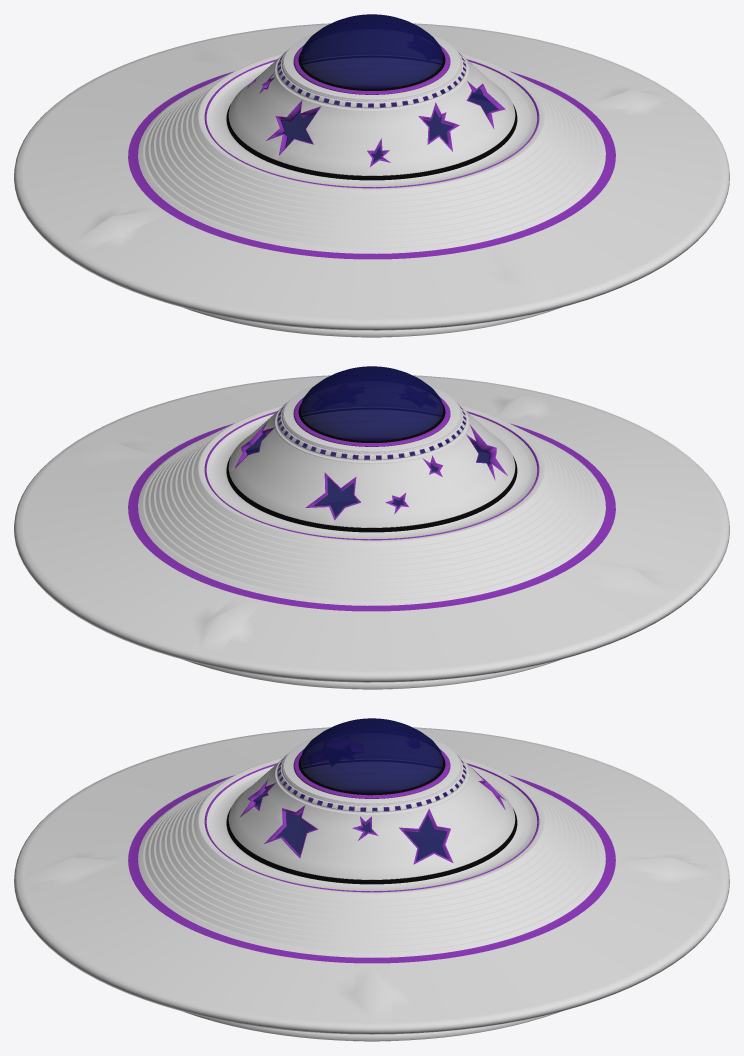
Rendered from spaceship_inside_sample_1.fbx.
3 views of the same model, one above another, from view 1: azimuth 30°, elevation 25°; view 2: azimuth 150°, elevation 25°; view 3: azimuth 270°, elevation 25° (orthographic).
Parts seen in each view (by area): view 1: Cylinder; view 2: Cylinder; view 3: Cylinder.
Part boxes in pixels (bbox=[...]): Cylinder: bbox=[14, 14, 729, 337]; Cylinder: bbox=[14, 366, 729, 689]; Cylinder: bbox=[14, 718, 729, 1041].
Size of the model in its own units: 1135 by 408 by 1135.
